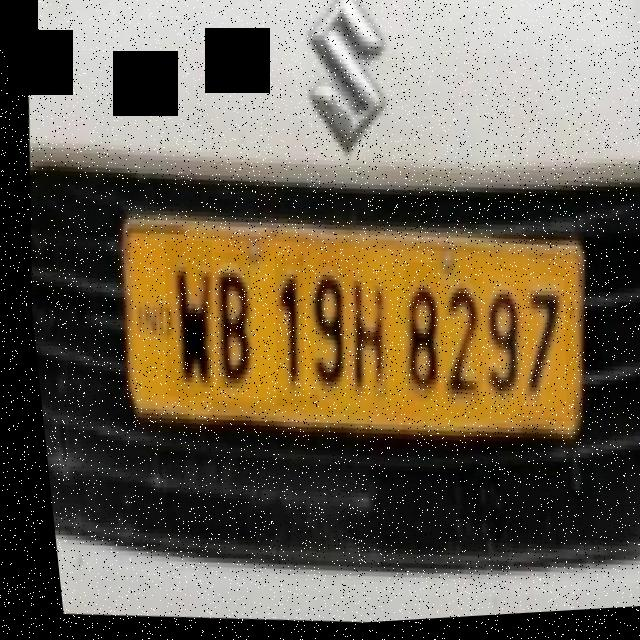1: (255, 260, 308, 411)
7: (501, 279, 569, 426)
8: (386, 265, 442, 407)
9: (289, 262, 354, 405), (463, 275, 524, 414)
B: (196, 253, 256, 395)
H: (332, 264, 394, 409)
W: (145, 239, 218, 402)
